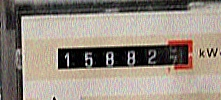1: (62, 52, 72, 68)
2: (146, 48, 157, 66)
5: (83, 51, 94, 68)
7: (168, 55, 178, 66)
8: (125, 50, 136, 67), (104, 52, 115, 68)
screen: (50, 36, 199, 80)
